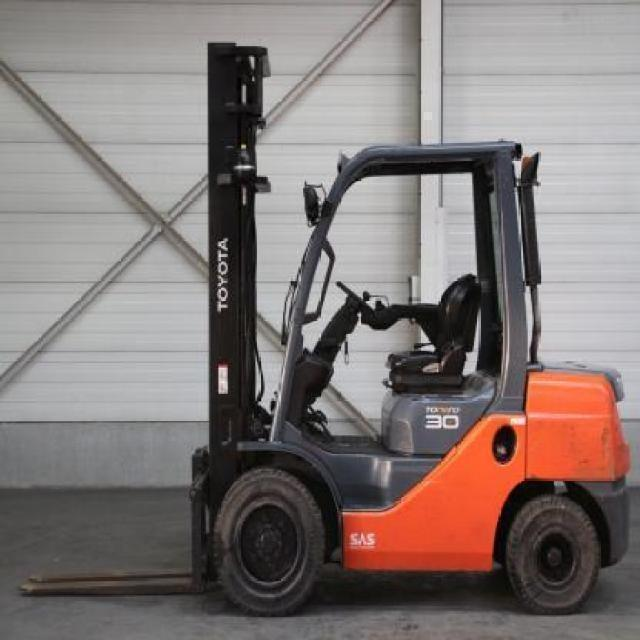forklift: (6, 58, 634, 623)
